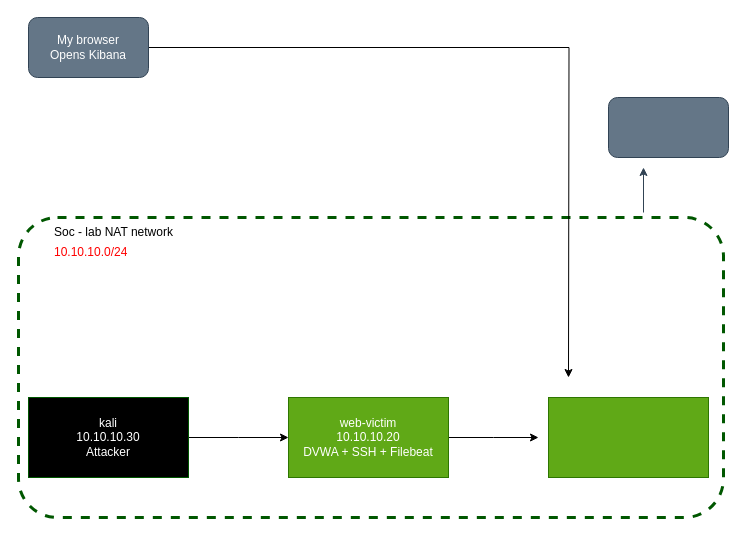
Image size: 746x536. Some labels were removed from this diagram. Here are the shapes that lost their labels. From the top down, the centre of each, then its label:
the point at 668,127: Gateway 10.10.10.1 NAT to internet
the point at 628,437: elk-siem 10.10.10.10 Elastic + Kibana
